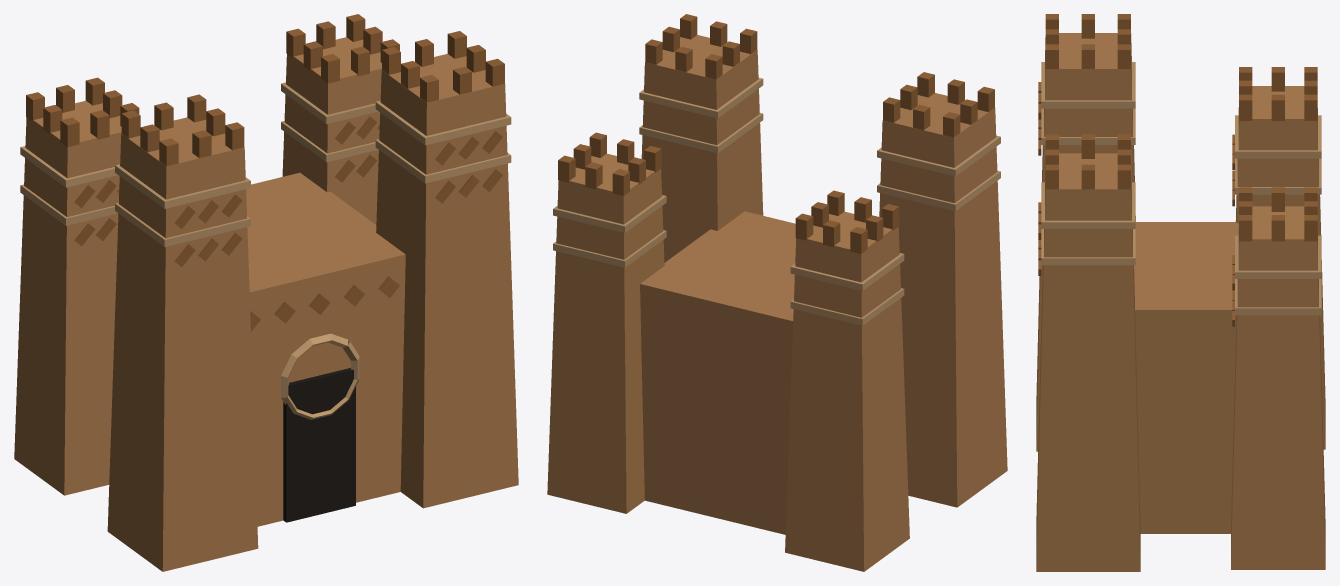
The model's file is fennec_landmark.glb.
3 views of the same model, side by side, from view 1: azimuth 30°, elevation 25°; view 2: azimuth 150°, elevation 25°; view 3: azimuth 270°, elevation 25° (orthographic). The views are drawn at different scales.
Parts seen in each view (by area): view 1: fennec_landmark; view 2: fennec_landmark; view 3: fennec_landmark.
Part boxes in pixels (x1=…): fennec_landmark: x1=14, y1=14, x2=518, y2=571; fennec_landmark: x1=547, y1=14, x2=1007, y2=571; fennec_landmark: x1=1036, y1=14, x2=1325, y2=571.
Size of the model in its own units: 4.1 by 4.62 by 3.05.
